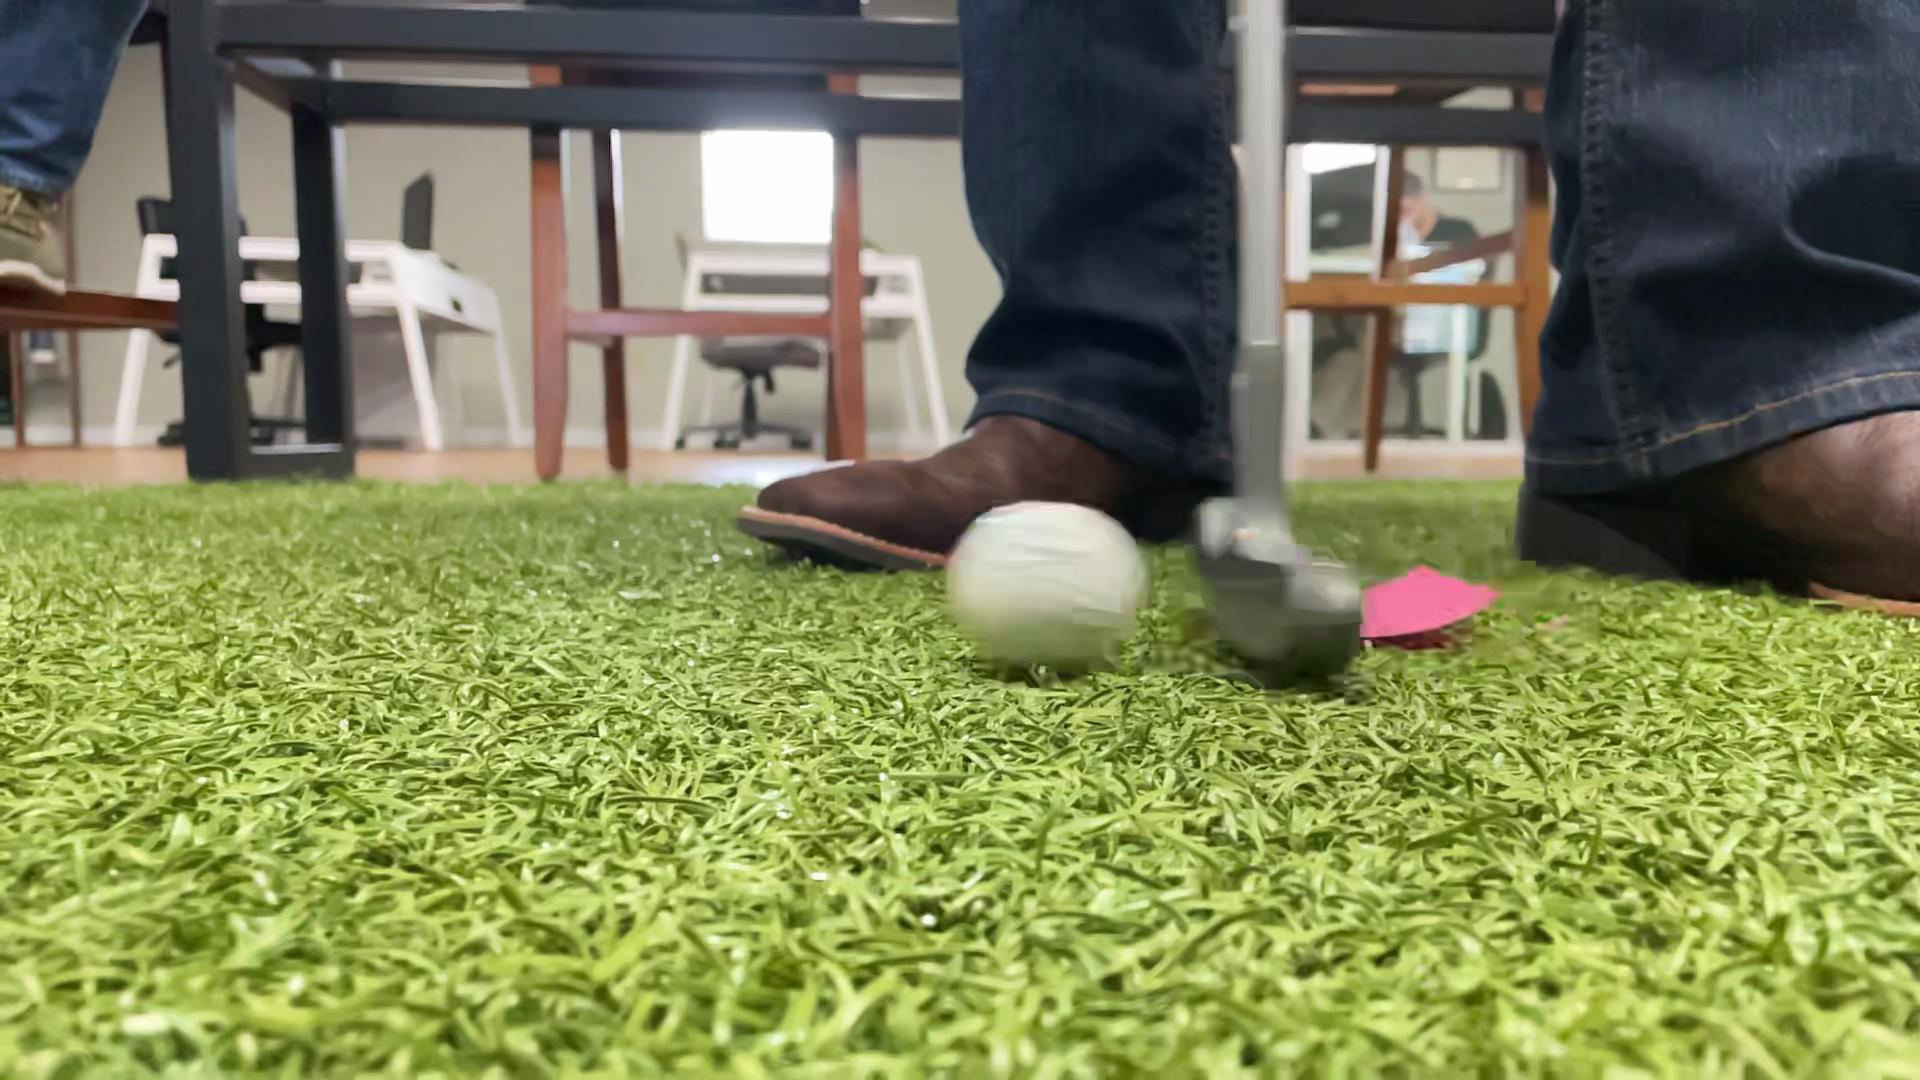golfball: (946, 502, 1150, 669)
